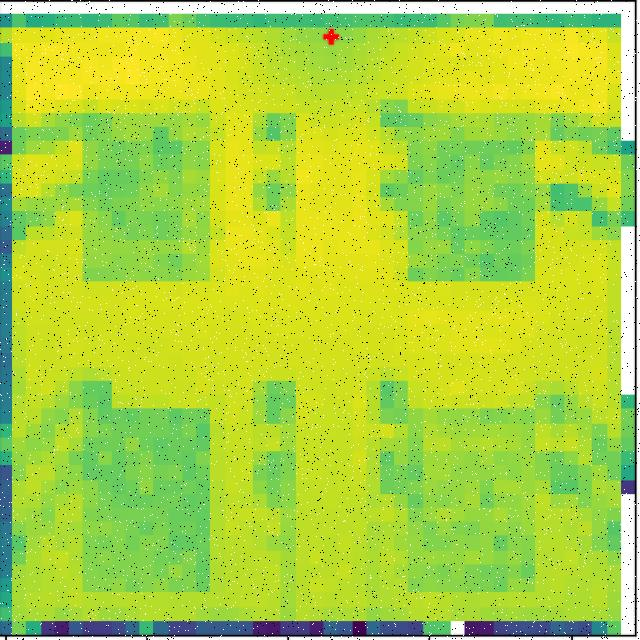Concrete: (376, 86, 554, 301)
Glass: (60, 98, 229, 310)
Metal: (356, 378, 556, 592)
Wood: (80, 386, 215, 612)
